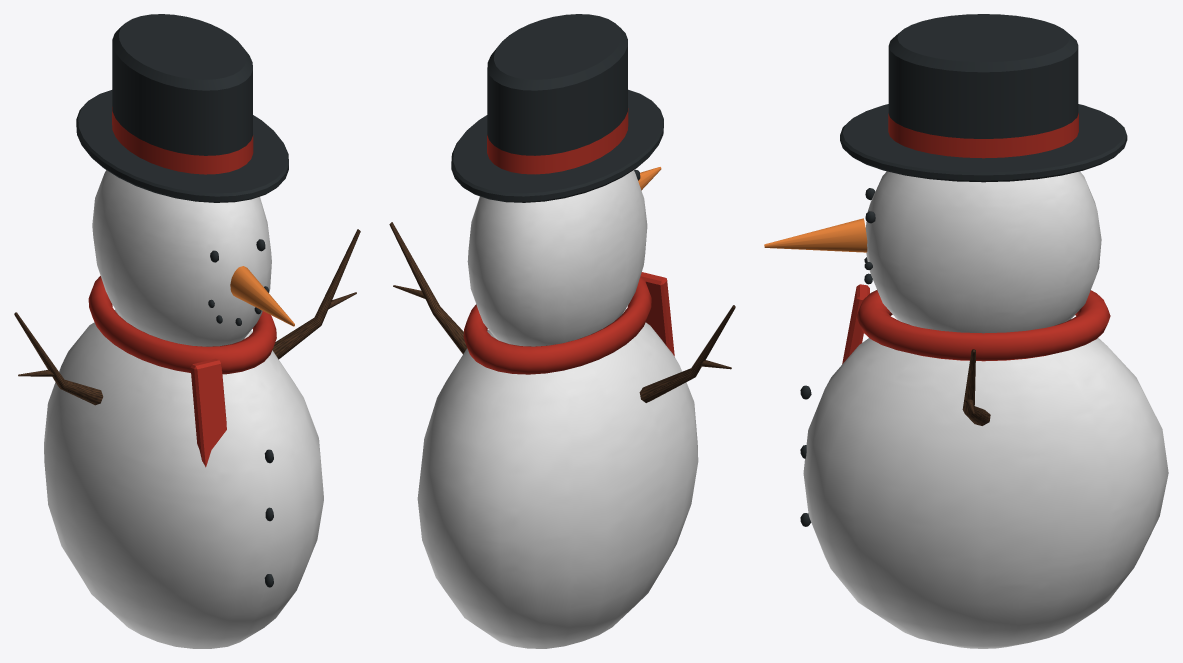
The model's file is snowman.glb.
3 renders of one model, left to right at view 1: azimuth 30°, elevation 25°; view 2: azimuth 150°, elevation 25°; view 3: azimuth 270°, elevation 25°, orthographic. The views are drawn at different scales.
Parts seen in each view (by area): view 1: snowman; view 2: snowman; view 3: snowman.
Part boxes in pixels (box(x1,y1,x2,y2)): snowman: box(14, 14, 360, 648); snowman: box(389, 14, 735, 648); snowman: box(764, 14, 1168, 648).
Bounding box in the file's own units: 0.8279 × 1.35 × 0.8192.
Materials: 5 (2 with a texture image).
